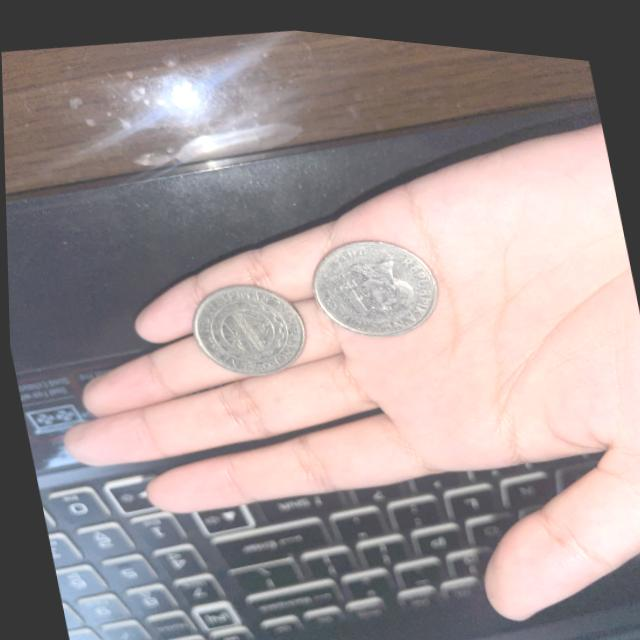1_Old_Back: (197, 280, 293, 369)
1_Old_Front: (321, 238, 418, 326)
